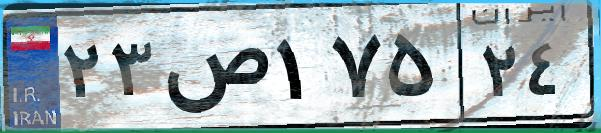1: (270, 28, 330, 110)
2: (57, 26, 110, 100), (475, 38, 525, 113)
3: (110, 28, 158, 98)
4: (525, 38, 570, 115)
5: (385, 28, 445, 110)
7: (330, 28, 385, 110)
ص: (158, 20, 270, 120)
